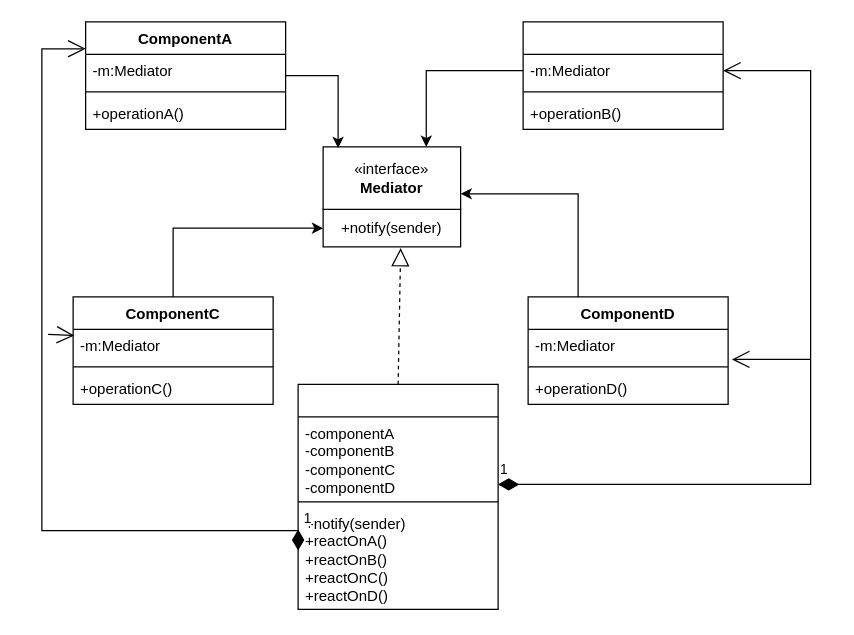
Some shapes in this 854 by 635 pixel diagram are drawn without their labels. The shapes that lost their labels are listed below. From the top down, each one's box as (x1, y1, x2, y2) in pixels, then its label:
(522, 21, 723, 129): ComponentB
(297, 383, 498, 609): ConcreteMediator
